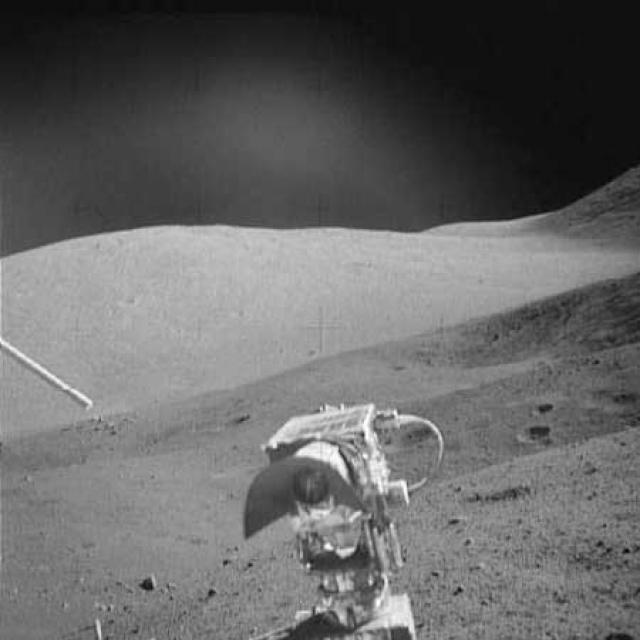artifact: (246, 392, 458, 638), (0, 335, 99, 416)
crater: (590, 385, 638, 409), (515, 420, 553, 447), (529, 398, 554, 415)
